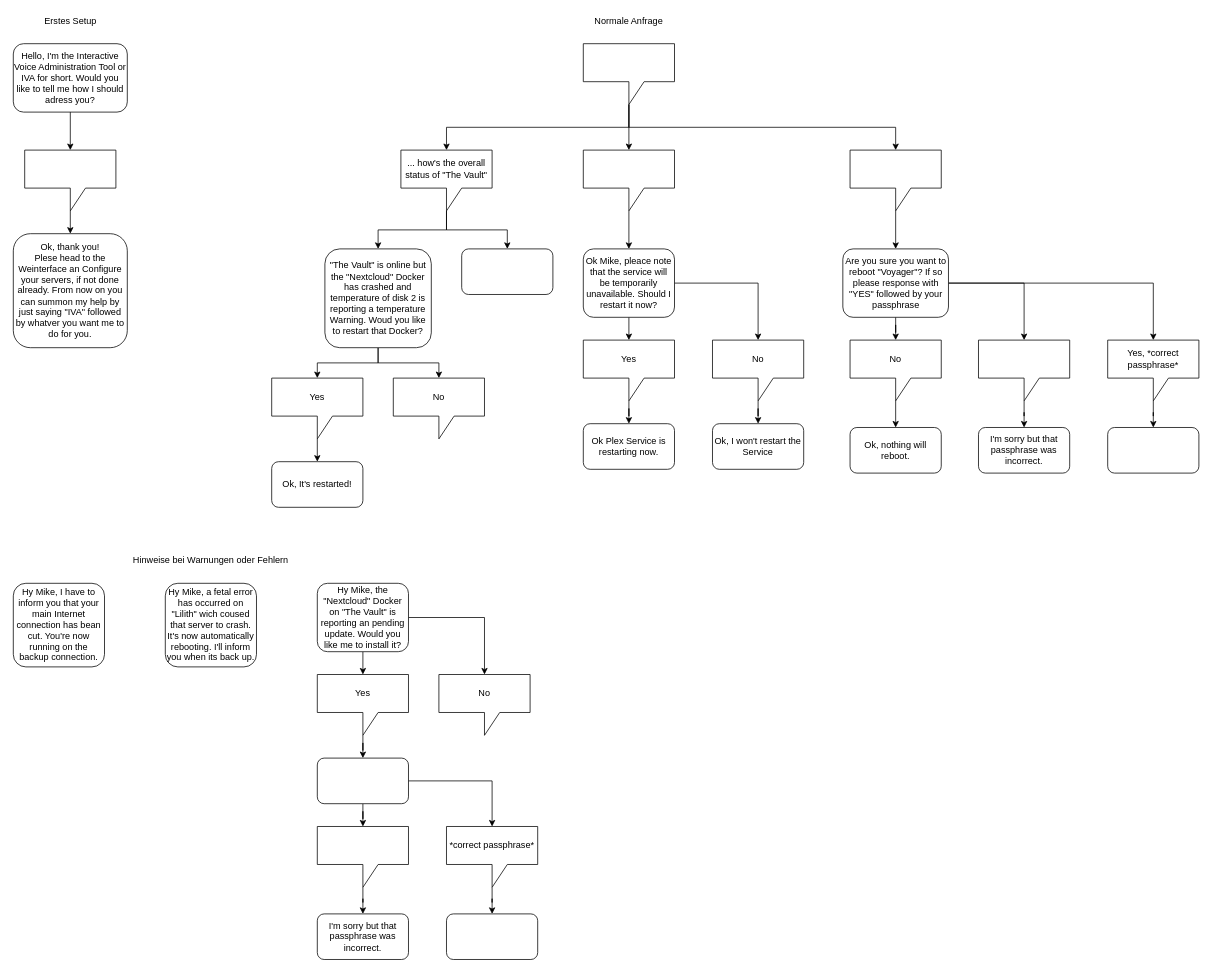
This 1212x973 diagram has some shape labels left out. The shapes that lost their labels are listed below. From the top down, each one's centre as x and y in pixels, then its label:
(x=628, y=73): IVA, ...
(x=70, y=180): Hello IVA, I'm Mike
(x=628, y=180): ... restart the Plex service on "Lilith"
(x=895, y=180): ... reboot "Voyager"
(x=507, y=271): "The Vault" is online and is not reporting any warnings or errors.
(x=1024, y=370): Yes, *incorrect passphrase*
(x=1153, y=450): "Voyager" will now reboot. I'll inform you when its complete.
(x=362, y=780): Ok, please respond with your passphrase.
(x=362, y=856): *incorrect passphrase*
(x=492, y=936): The update will now be installed.
